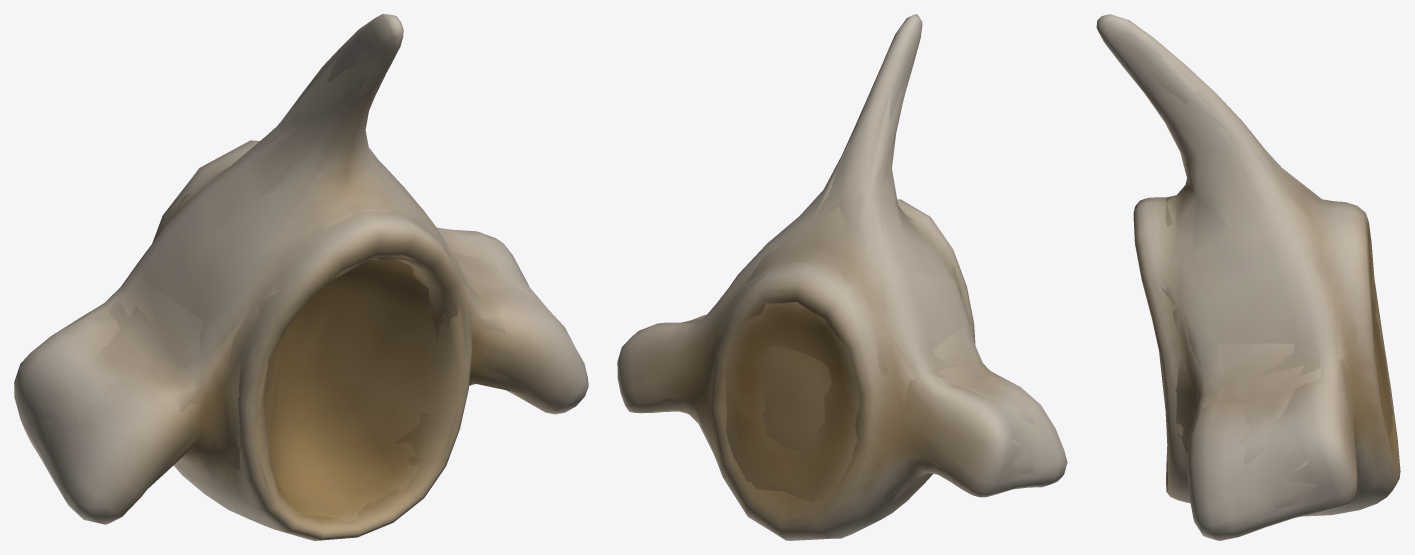
The model's file is vertebra cervicalis 6.fbx.
The picture shows the model from 3 angles, left to right: view 1: azimuth 30°, elevation 25°; view 2: azimuth 150°, elevation 25°; view 3: azimuth 270°, elevation 25°; orthographic projection. The views are drawn at different scales.
Visible parts, largest first — view 1: vertebra cervicalis 6, vertebra cervicalis 6 low; view 2: vertebra cervicalis 6, vertebra cervicalis 6 low; view 3: vertebra cervicalis 6, vertebra cervicalis 6 low.
Part boxes in pixels (x1,y1,x2,y2): vertebra cervicalis 6: [14, 14, 588, 540]; vertebra cervicalis 6 low: [27, 52, 547, 525]; vertebra cervicalis 6: [617, 14, 1067, 540]; vertebra cervicalis 6 low: [662, 60, 1036, 502]; vertebra cervicalis 6: [1096, 14, 1400, 540]; vertebra cervicalis 6 low: [1133, 54, 1393, 508].
Size of the model in its own units: 4.75 by 5.03 by 2.83.
Materials: 1 (1 with a texture image).
